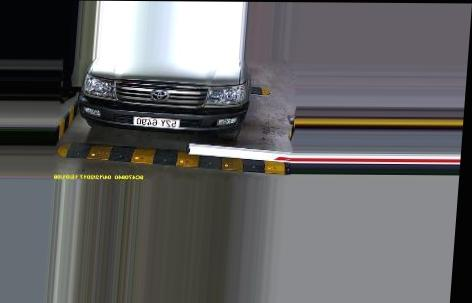License_Plate: (132, 117, 181, 128)
